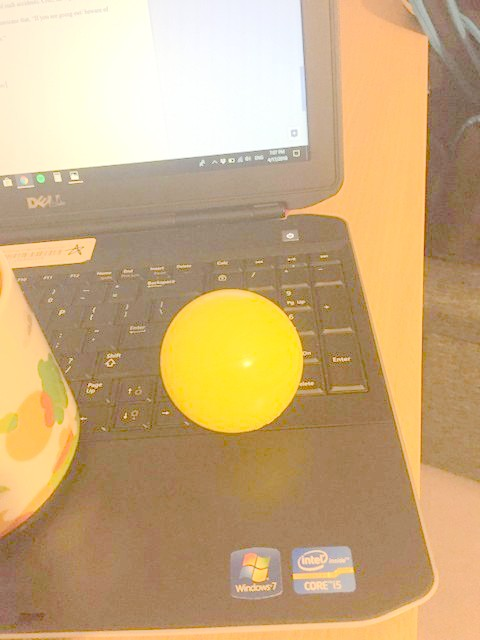ball: (158, 288, 305, 435)
